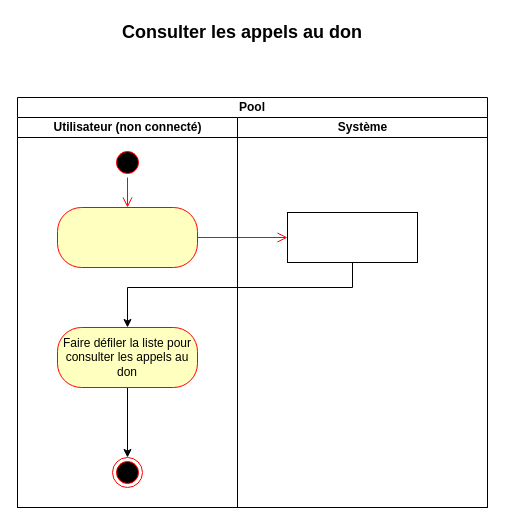
Image size: 505x525. Some labels were removed from this diagram. Here are the shapes that lost their labels. From the top down, the centre of each, then its label:
point 127,237: Se rendre sur la page d'accueil
point 352,237: Liste d'appels aux dons actuels et non pourvus
